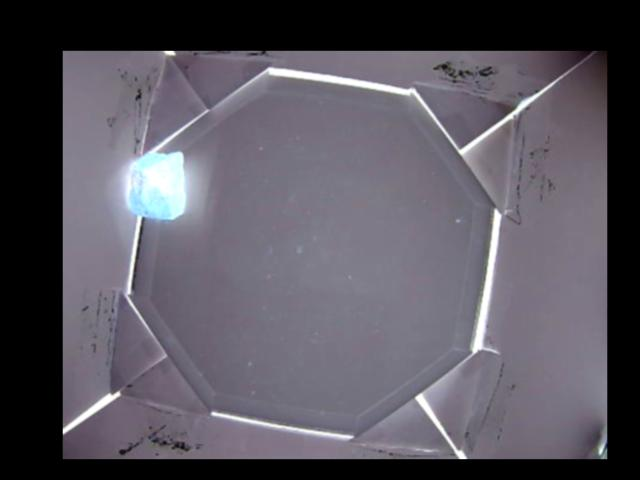Brisk: (124, 150, 187, 219)
